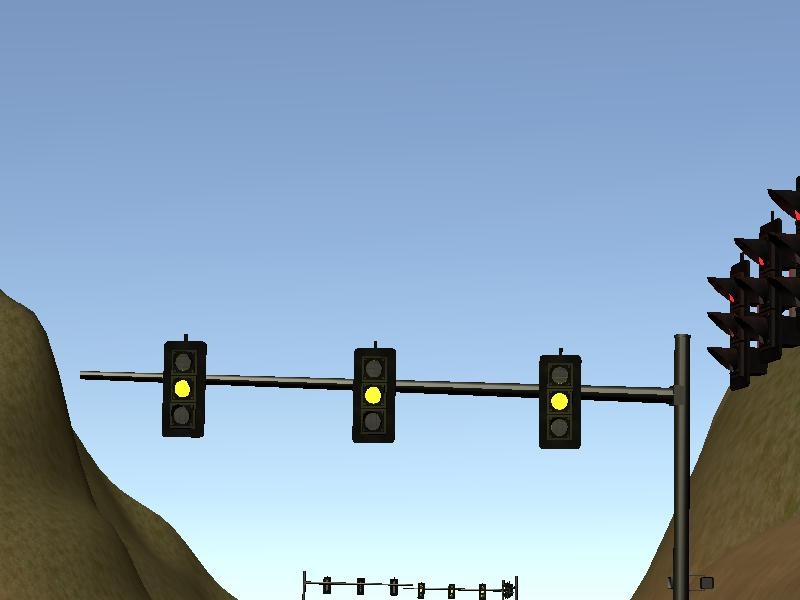YELLOW: (159, 339, 206, 438), (538, 355, 583, 448), (351, 349, 396, 442)
